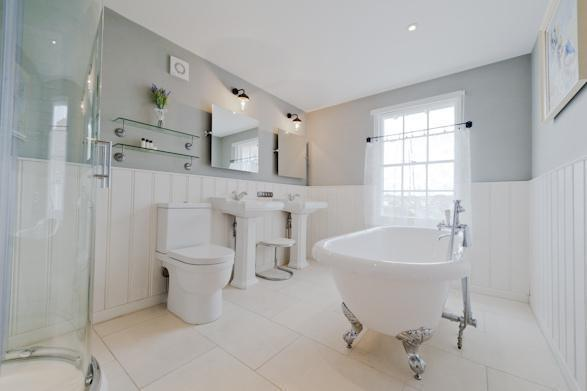Ducha: (0, 7, 111, 390)
Lavamanos: (207, 189, 282, 220), (283, 189, 326, 214)
Sanitario: (146, 196, 232, 324)
